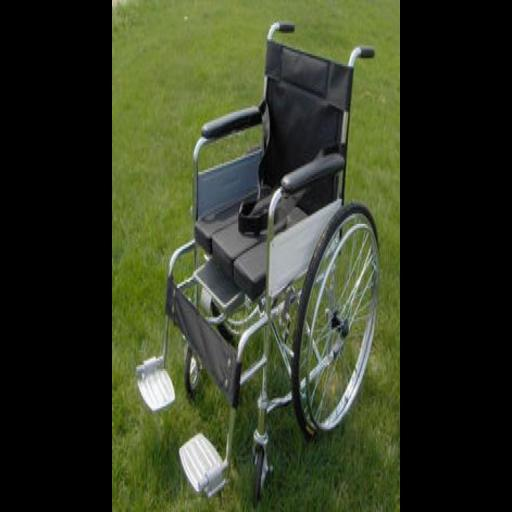cadeira_de_rodas: (137, 28, 380, 503)
